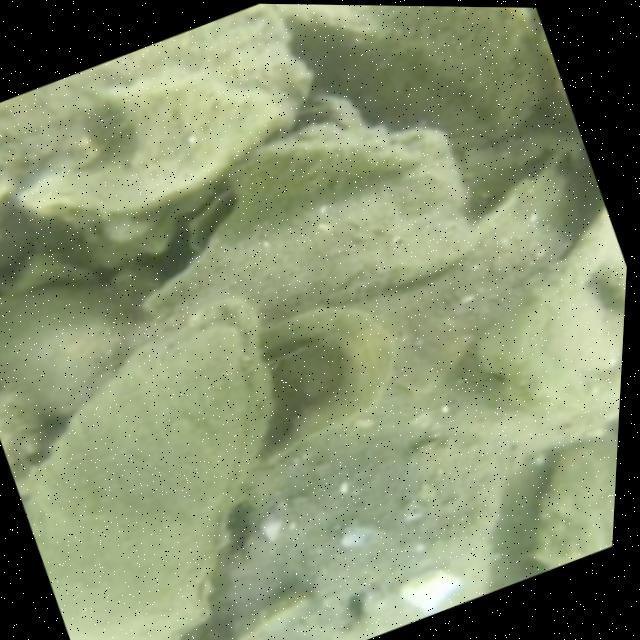Oyster-Closed: (29, 298, 274, 640)
Oyster-Indeterminate: (141, 123, 476, 334), (227, 433, 534, 640), (295, 4, 545, 141), (247, 301, 402, 468), (117, 4, 319, 110), (0, 63, 124, 200), (0, 282, 124, 414), (535, 440, 618, 565)
